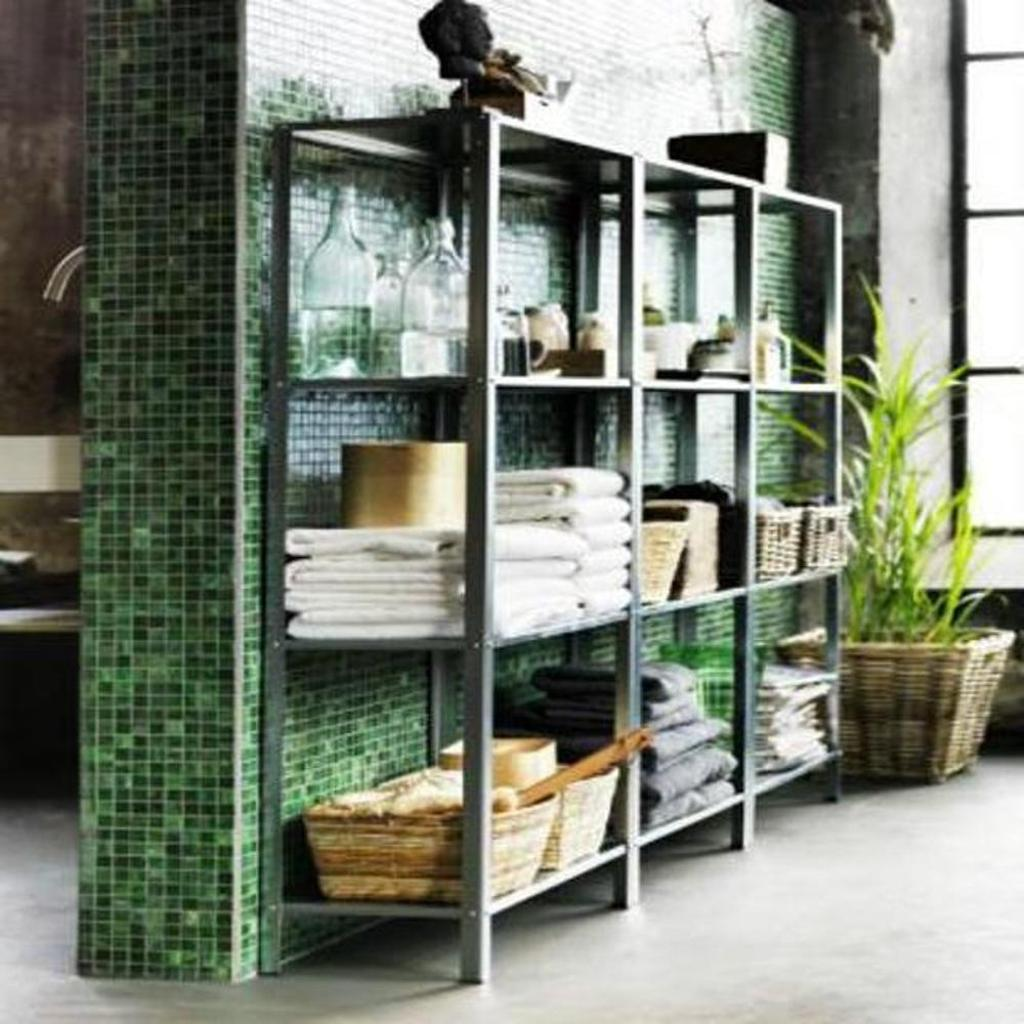lamp: (255, 110, 858, 993)
